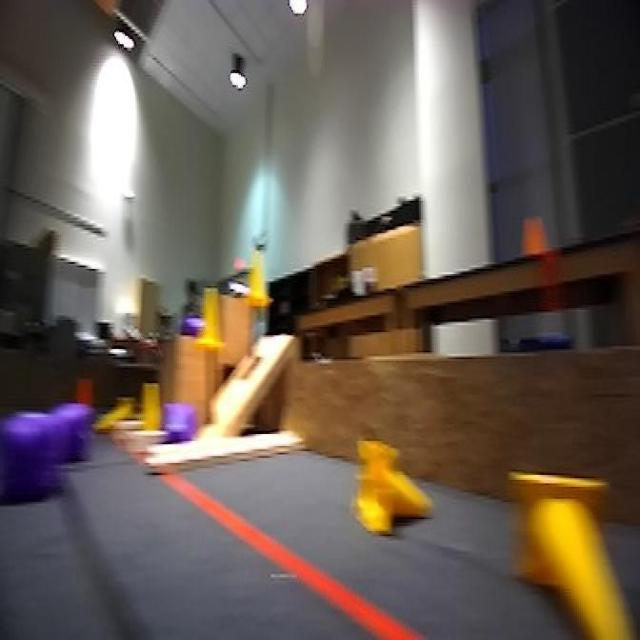frc_cone: (505, 464, 640, 640), (351, 434, 442, 546), (198, 286, 230, 354), (244, 244, 272, 314), (93, 398, 141, 434), (141, 382, 161, 438)
frc_cube: (2, 408, 62, 506), (51, 408, 94, 459), (162, 398, 201, 446), (180, 308, 205, 346)
